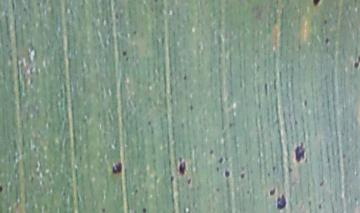tarspot: (293, 141, 306, 163), (275, 192, 287, 211), (177, 155, 187, 176), (110, 160, 123, 175), (285, 164, 294, 179), (262, 81, 270, 95), (272, 76, 278, 93), (268, 186, 276, 197), (223, 168, 231, 179), (188, 102, 195, 113), (181, 72, 189, 81), (322, 17, 329, 27), (311, 1, 322, 7), (20, 5, 28, 13), (244, 188, 252, 196), (186, 177, 193, 186), (302, 98, 308, 108), (217, 156, 223, 166), (352, 61, 360, 68), (239, 172, 246, 180), (208, 148, 215, 156), (316, 202, 323, 210), (317, 179, 325, 186), (323, 36, 329, 45), (169, 175, 175, 184), (292, 117, 298, 126), (227, 120, 233, 129), (214, 186, 221, 193), (99, 206, 106, 213), (271, 164, 277, 172), (121, 50, 127, 57), (141, 206, 147, 213), (133, 187, 139, 194), (145, 119, 152, 125), (1, 183, 4, 196), (356, 55, 360, 64), (265, 171, 271, 177), (131, 29, 137, 35), (215, 166, 220, 173), (152, 1, 159, 3)
